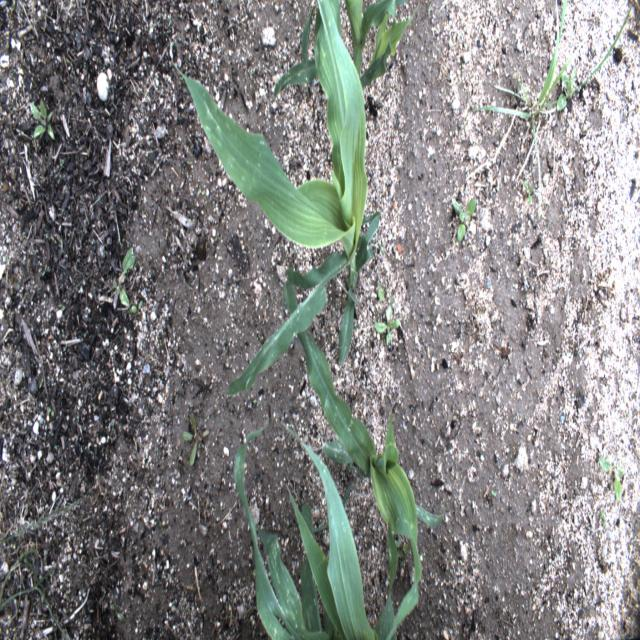crop: (173, 0, 385, 396), (280, 280, 444, 637), (233, 418, 398, 640), (273, 0, 420, 113)
weed: (468, 0, 634, 217), (0, 546, 70, 639), (0, 496, 90, 546), (3, 538, 45, 628), (111, 245, 136, 312), (182, 412, 210, 467), (598, 456, 626, 504), (451, 197, 476, 243), (373, 305, 400, 347), (29, 99, 55, 140), (557, 65, 577, 112), (394, 538, 410, 568), (108, 599, 126, 624), (522, 180, 535, 205), (130, 298, 143, 318), (600, 507, 608, 529), (376, 282, 384, 302), (45, 405, 56, 419), (40, 261, 48, 280), (49, 232, 58, 245), (203, 412, 211, 425), (59, 156, 66, 169), (38, 376, 45, 389), (10, 0, 16, 14), (66, 58, 73, 69), (490, 487, 497, 498), (8, 394, 14, 406), (542, 220, 552, 227), (287, 364, 292, 376), (54, 170, 61, 178), (168, 12, 172, 26), (186, 160, 194, 167), (421, 552, 426, 563), (13, 67, 19, 76), (252, 399, 261, 405), (258, 334, 264, 343), (48, 429, 54, 437), (198, 188, 204, 196), (169, 41, 174, 49), (166, 29, 172, 34)
